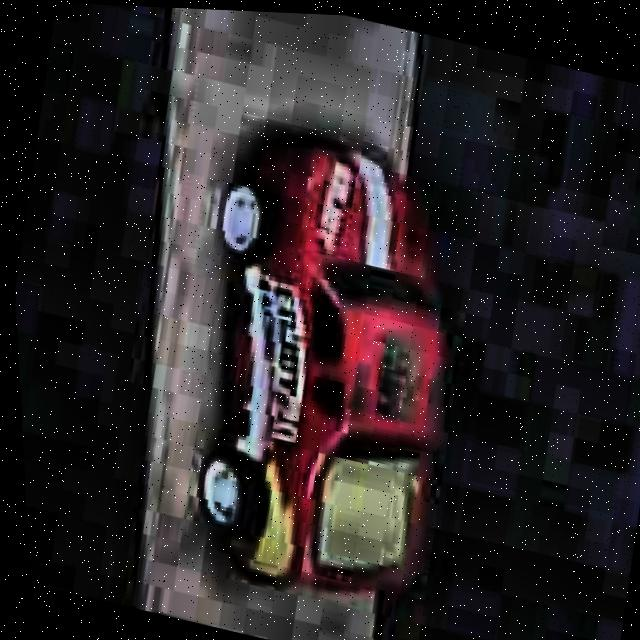car: (142, 107, 515, 631)
